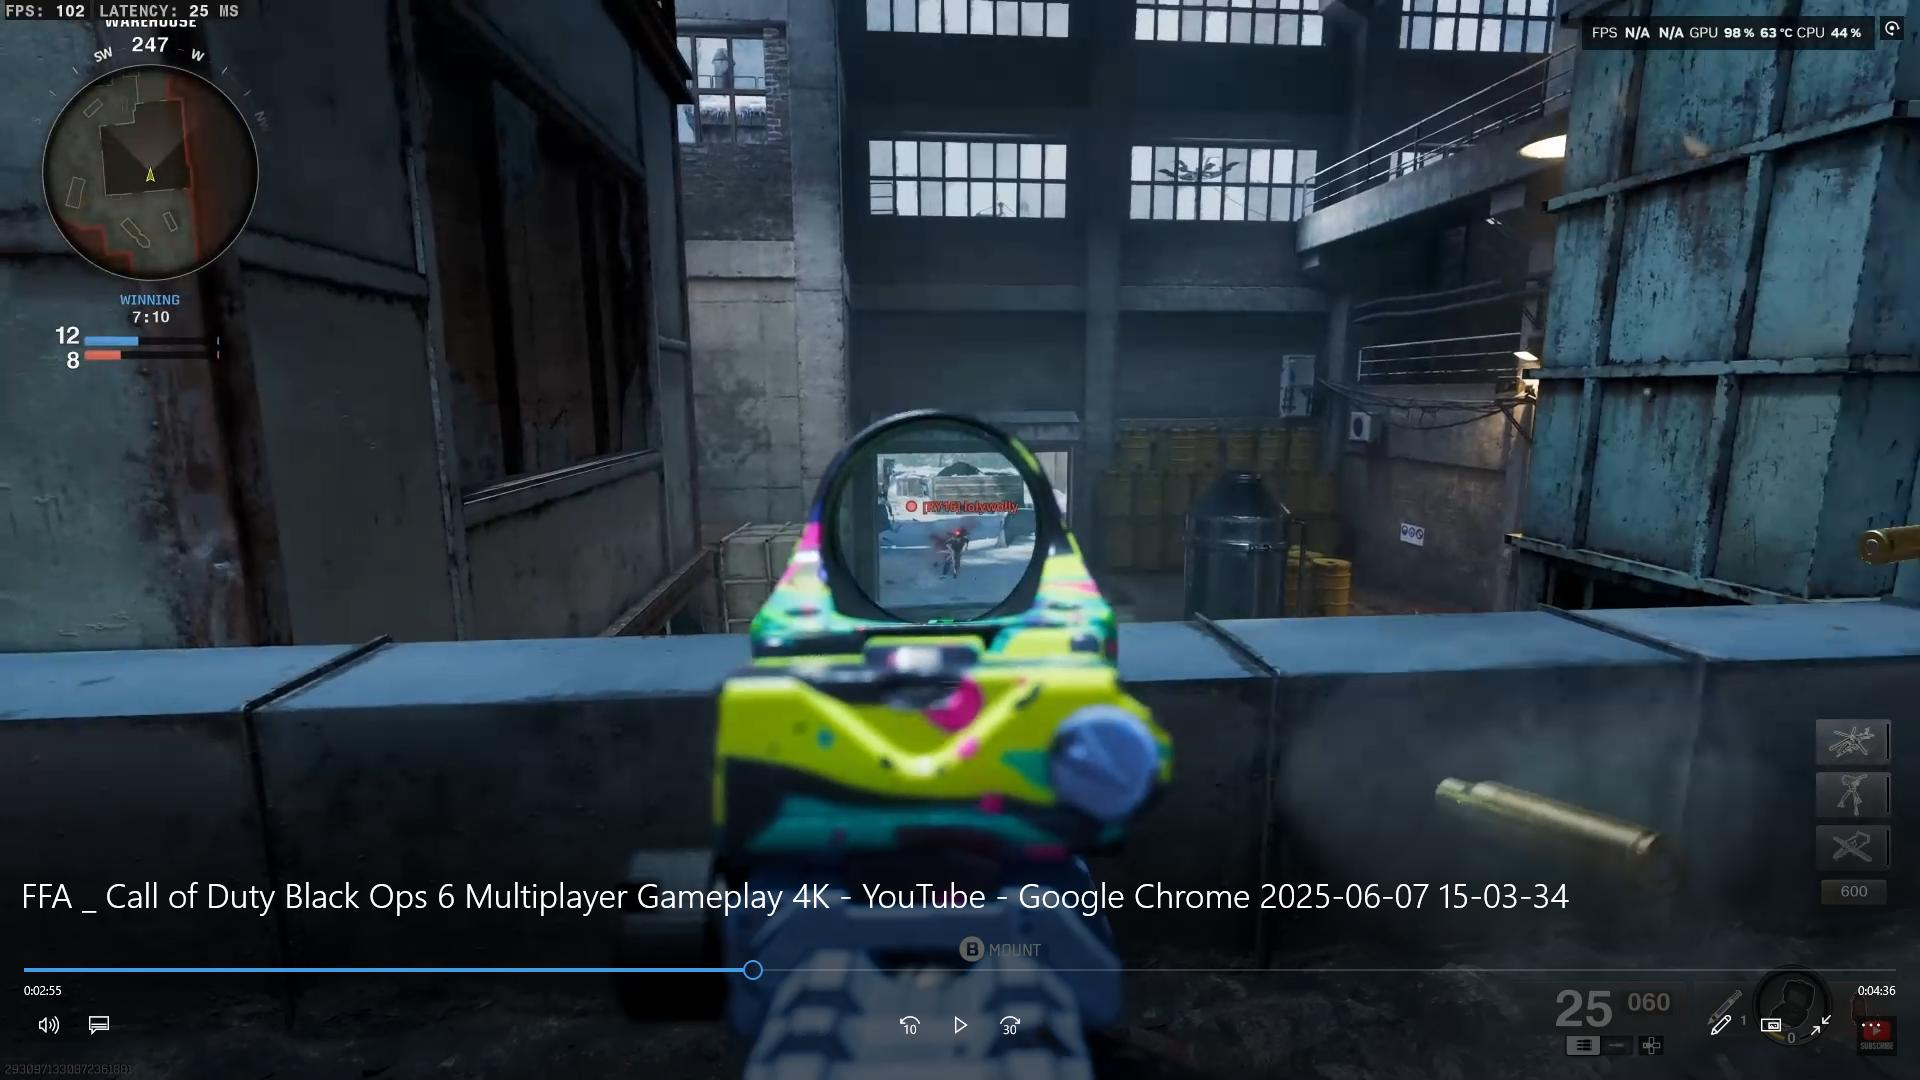Enemy: (940, 526, 973, 584)
